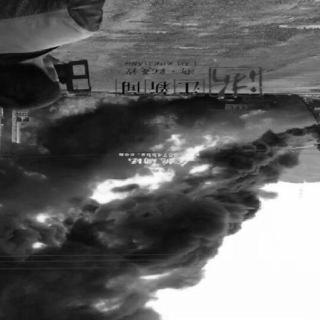Fire: (81, 130, 232, 212), (48, 95, 198, 121)
Smoke: (1, 122, 308, 320)
